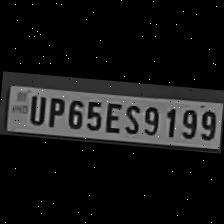1: (160, 104, 180, 136)
5: (83, 96, 105, 131)
6: (63, 94, 85, 128)
9: (177, 104, 200, 139), (196, 106, 219, 141), (139, 101, 162, 135)
E: (102, 97, 123, 132)
P: (44, 92, 66, 128)
S: (120, 99, 142, 134)
U: (24, 91, 46, 126)
